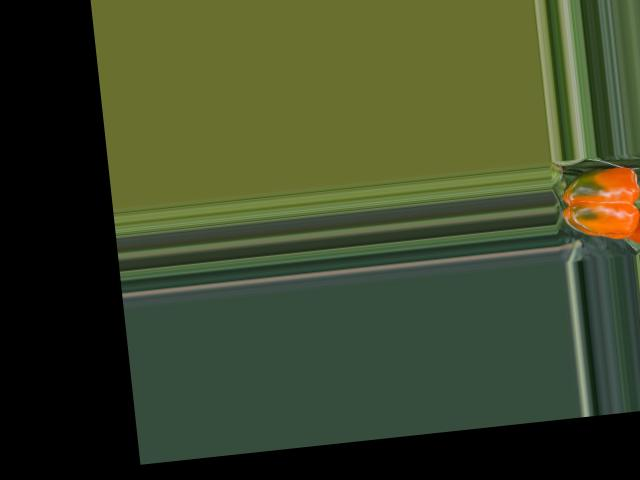bell_pepper: (551, 154, 640, 248)
